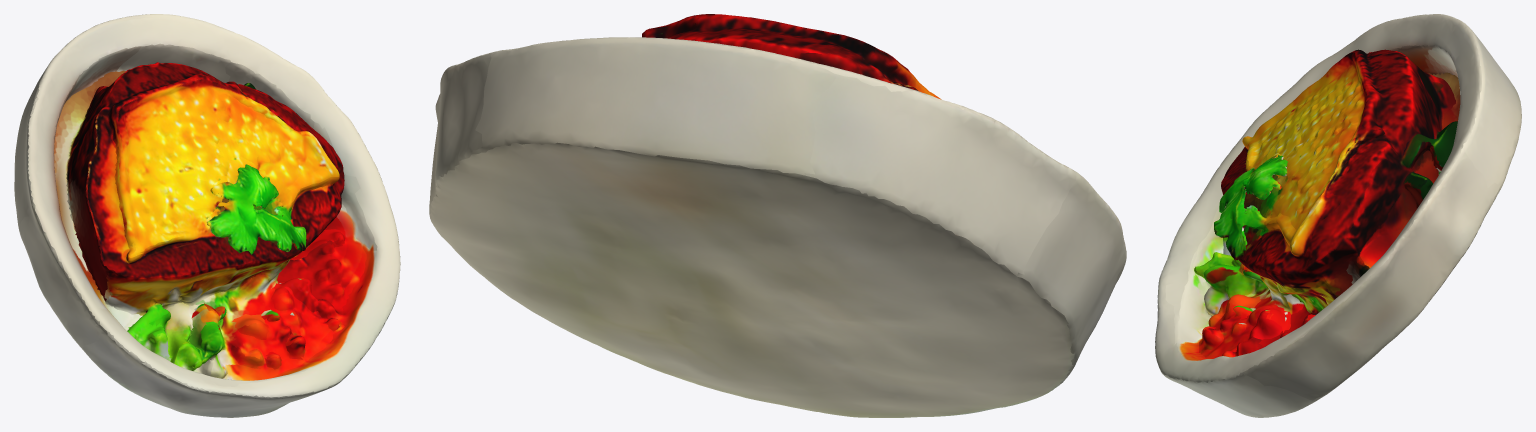
The model's file is オムライス.glb.
3 renders of one model, left to right at view 1: azimuth 30°, elevation 25°; view 2: azimuth 150°, elevation 25°; view 3: azimuth 270°, elevation 25°, orthographic. The views are drawn at different scales.
Visible parts, largest first — view 1: tmprbq9x3g8.ply; view 2: tmprbq9x3g8.ply; view 3: tmprbq9x3g8.ply.
Boxes of the visible parts, <box> form: tmprbq9x3g8.ply: <box>14,14,400,417</box>; tmprbq9x3g8.ply: <box>429,14,1126,417</box>; tmprbq9x3g8.ply: <box>1155,14,1521,417</box>.
Bounding box in the file's own units: 1.99 × 1.68 × 1.67.
1 material, 1 textured.
